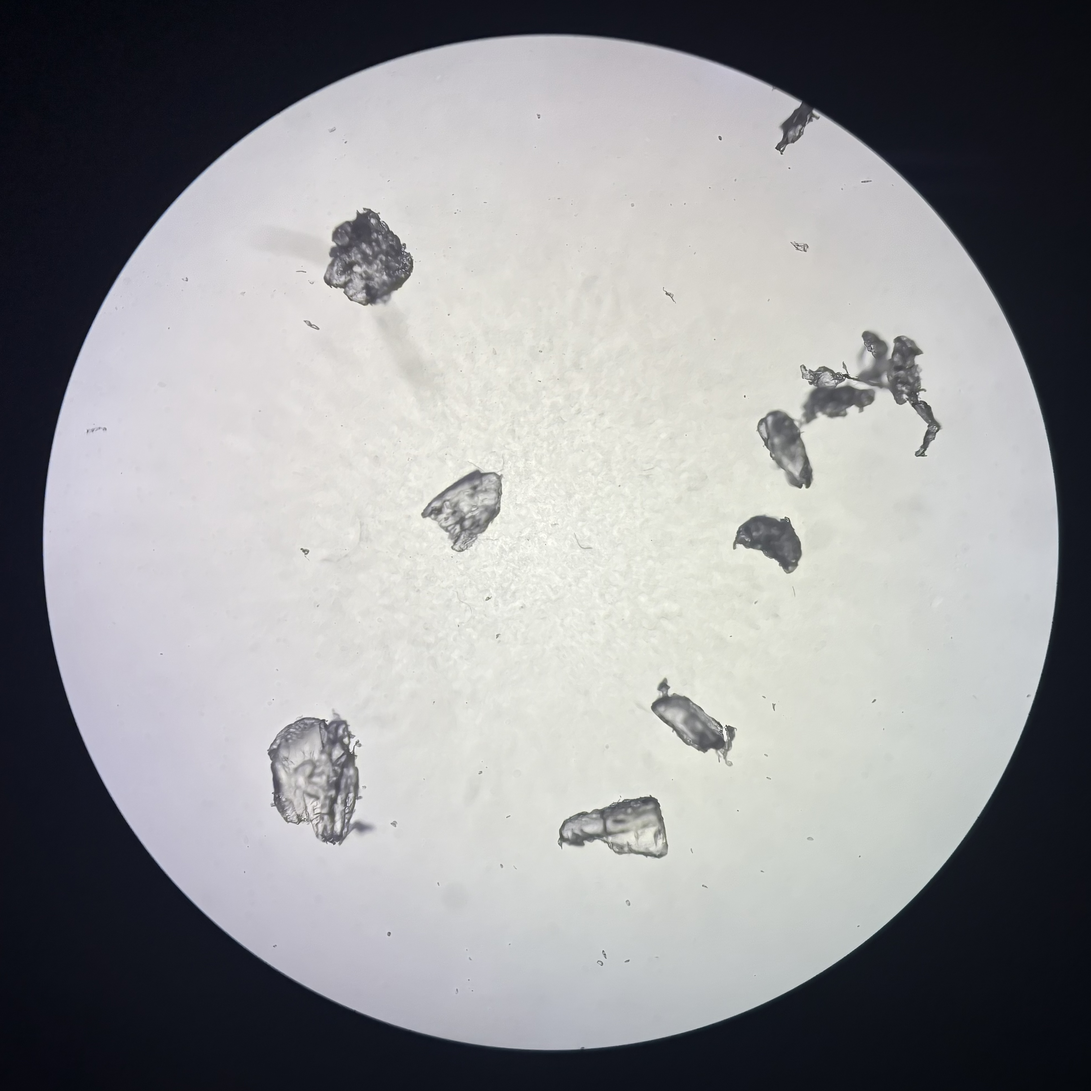microplastic: (794, 331, 939, 458), (268, 717, 374, 844), (325, 206, 415, 302), (650, 680, 737, 768), (558, 798, 669, 860), (421, 471, 503, 552), (757, 411, 816, 488), (732, 518, 802, 575), (780, 93, 818, 153), (791, 239, 810, 251)
